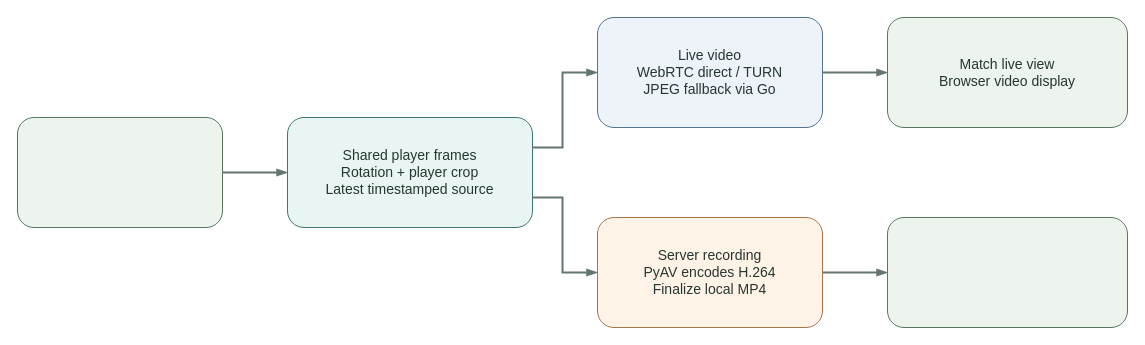
Some shapes in this 1145 by 345 pixel diagram are drawn without their labels. The box of each missing label's shape, as (x1, y1, x2, y2) in pixels:
Replay / download Authenticated Go HTTP MP4 Range / file fetch: (886, 216, 1128, 328)
USB camera Connected to Fish host Captured by Python: (16, 116, 222, 228)
